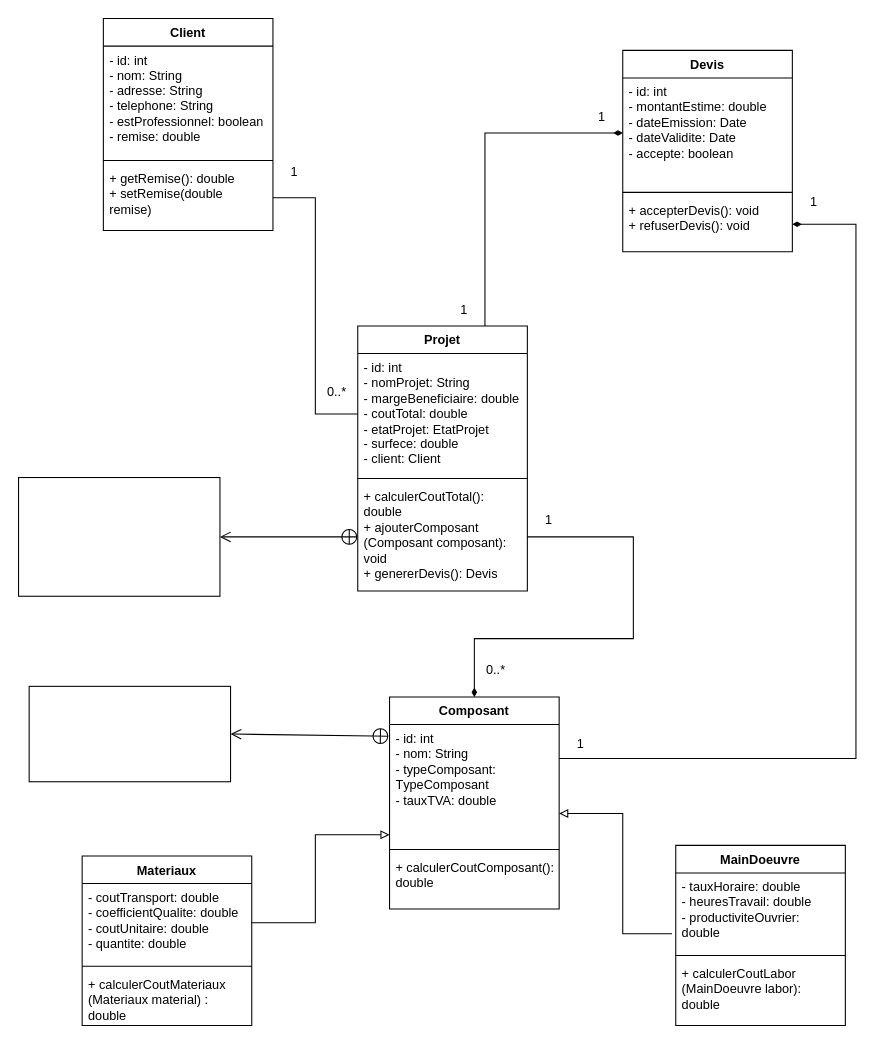
The diagram is 883 pixels wide and 1047 high, and some of its shapes have lost their labels. The centre of each missing label's shape, as x and y in pixels:
<<enum>> EtatProjet En cours Terminé Annulé: point (118, 536)
<<enum>> TypeComposant Matériel Main-d’œuvre: point (129, 733)
